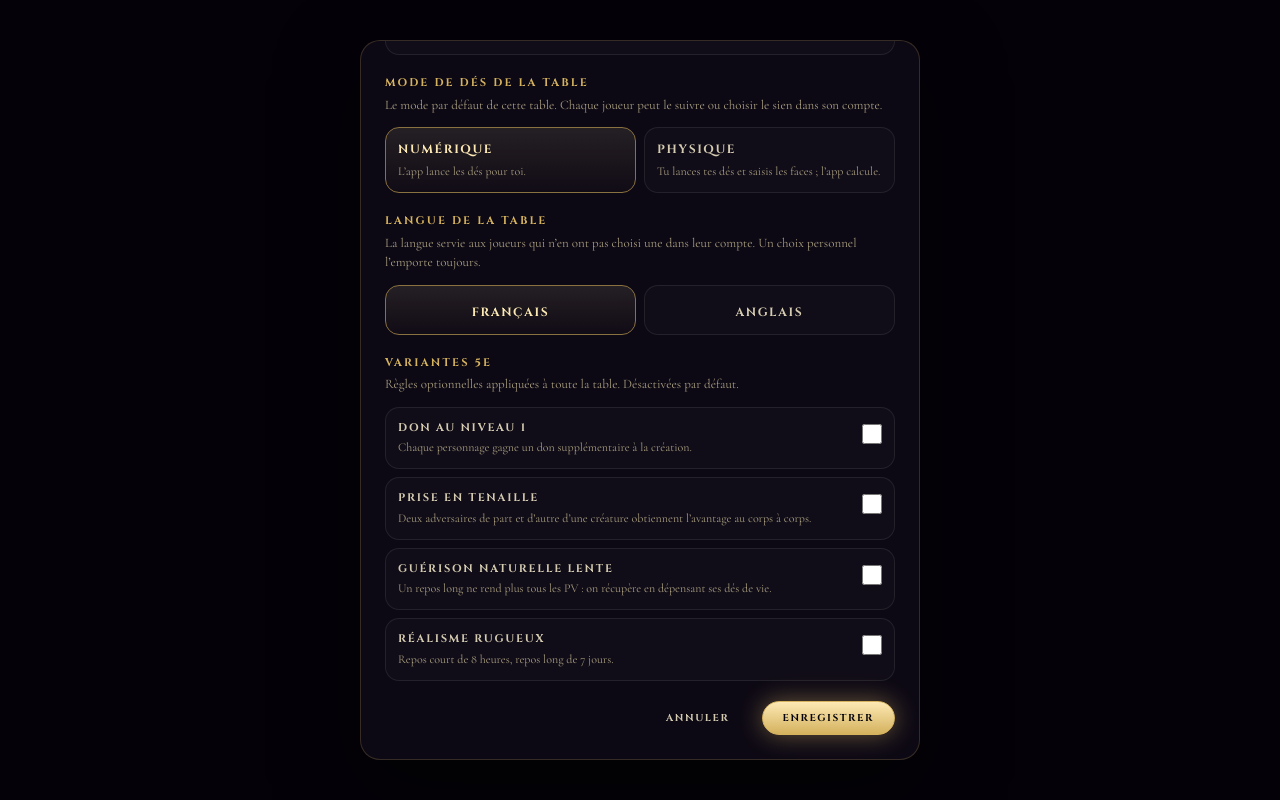
Test case: <CampaignSettingsModal> › échec du service → message d’erreur, modale non fermée
(page scrolled)
Click the button "Enregistrer" at (828, 718), box [762,701,895,735]
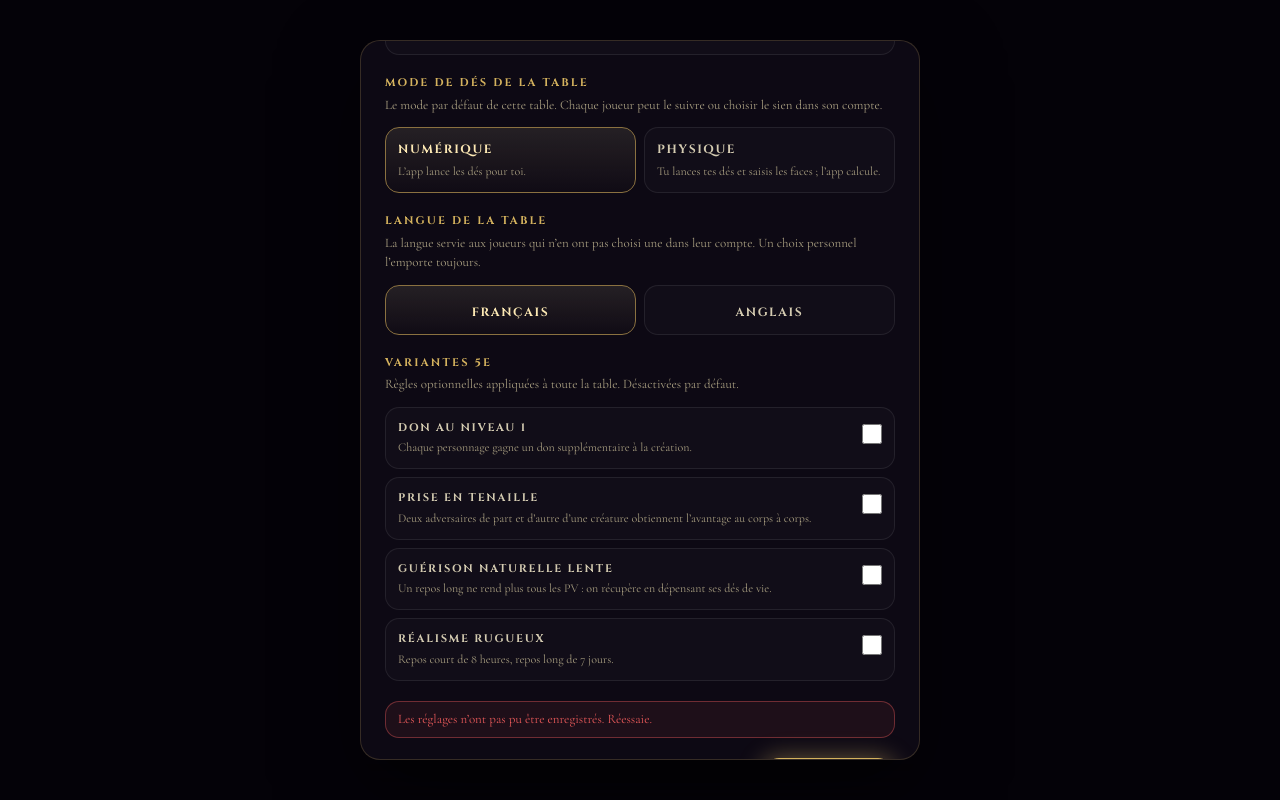
Expected: the message "Les réglages n’ont pas pu être enregistrés. Réessaie." is shown, [385,701,895,738]
